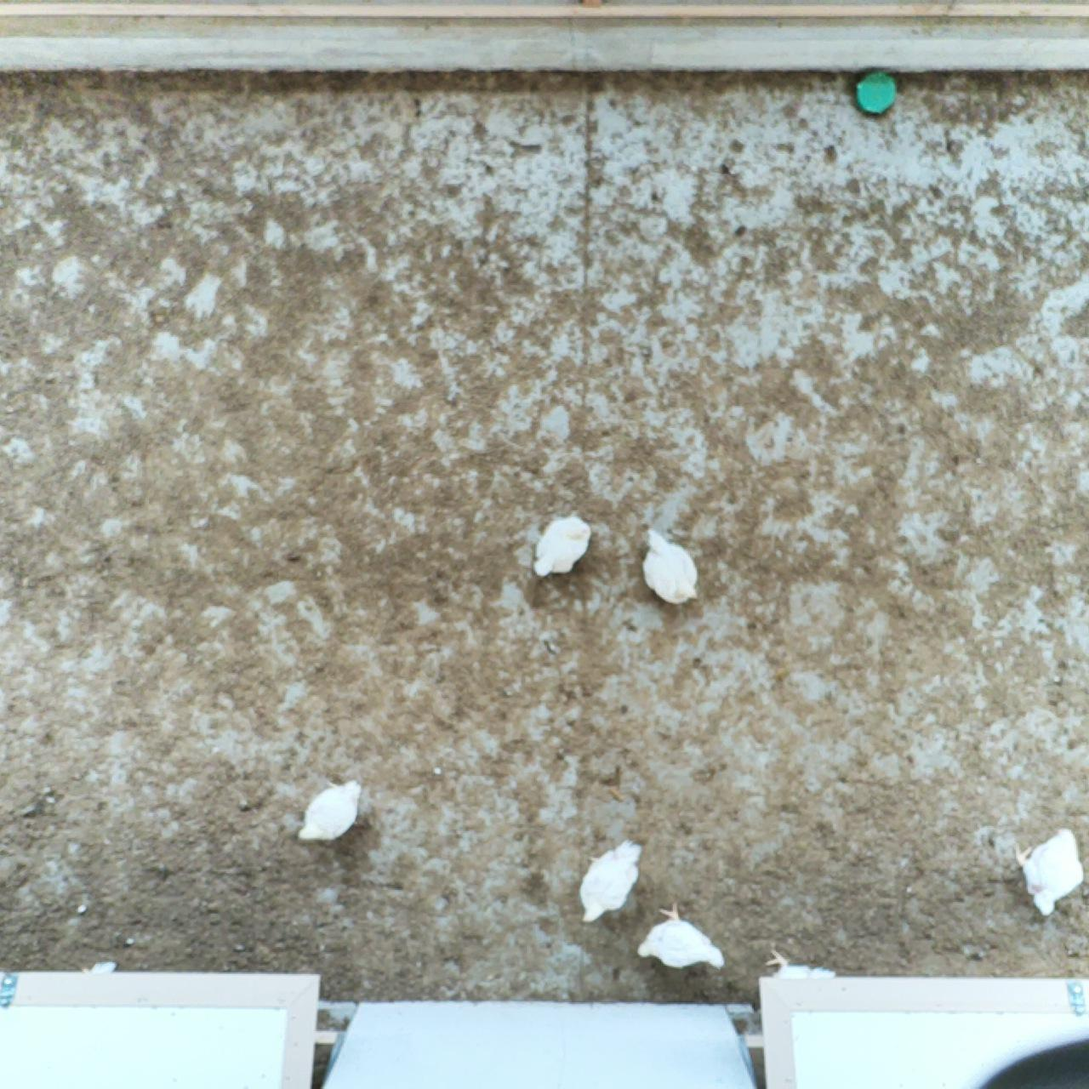chicken: (1012, 824, 1086, 918), (576, 838, 650, 930), (637, 901, 726, 976), (296, 770, 373, 849), (759, 943, 835, 1011), (641, 524, 699, 608), (532, 512, 594, 579)
